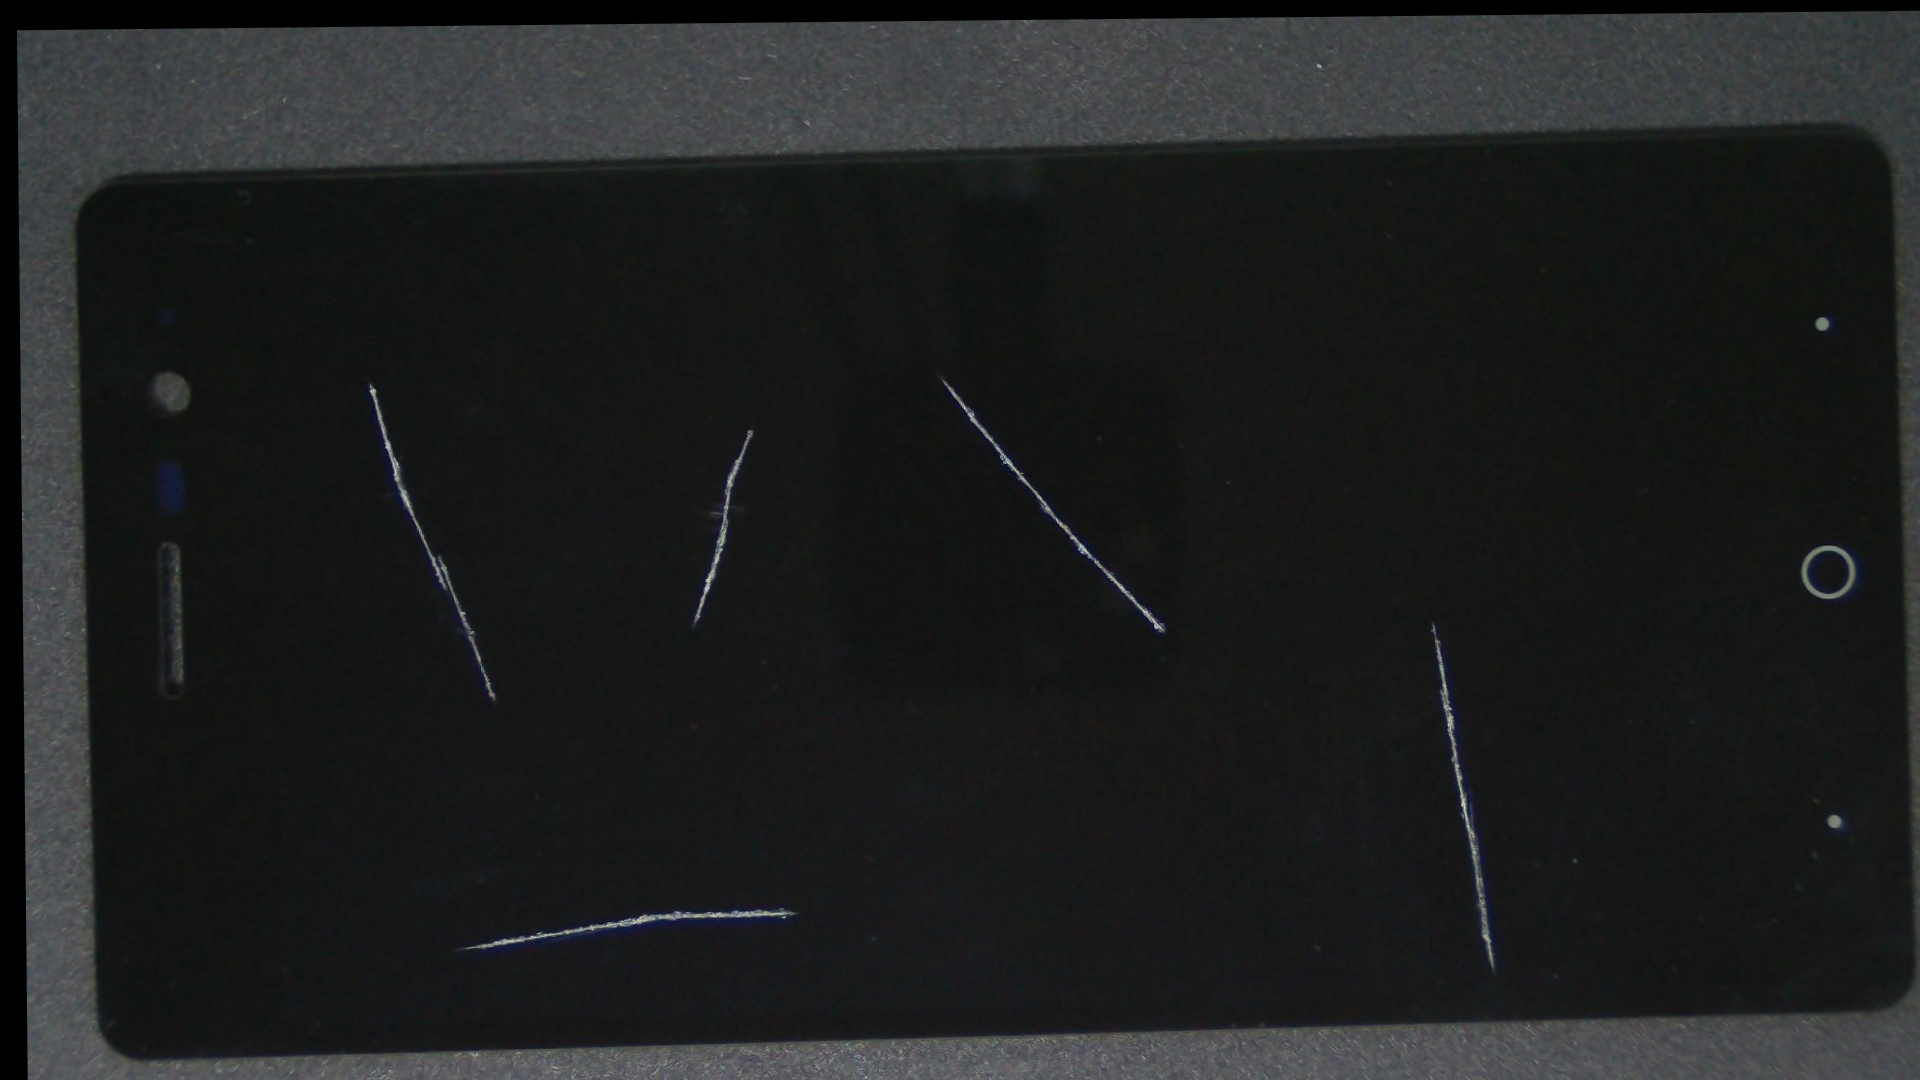oil: (724, 309, 1920, 934), (401, 460, 1164, 1080), (477, 193, 1399, 559), (384, 222, 1114, 634), (194, 202, 547, 562)
